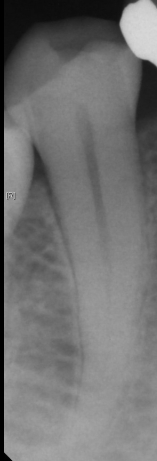tooth: (3, 11, 144, 451)
